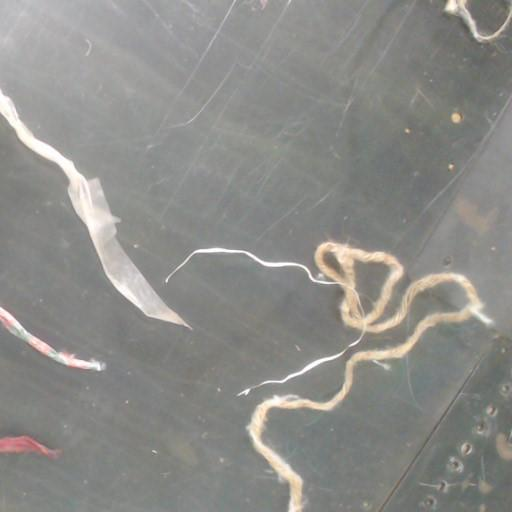cloth: (0, 307, 104, 368), (0, 436, 58, 456)
jute: (248, 241, 492, 511), (444, 0, 511, 43)
thread: (0, 89, 190, 328), (53, 151, 187, 326), (239, 336, 361, 394), (166, 247, 335, 283), (165, 248, 333, 283)
